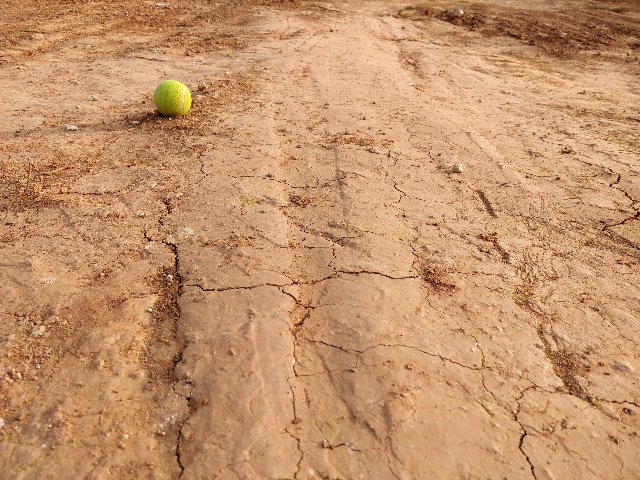ball: (146, 71, 197, 125)
